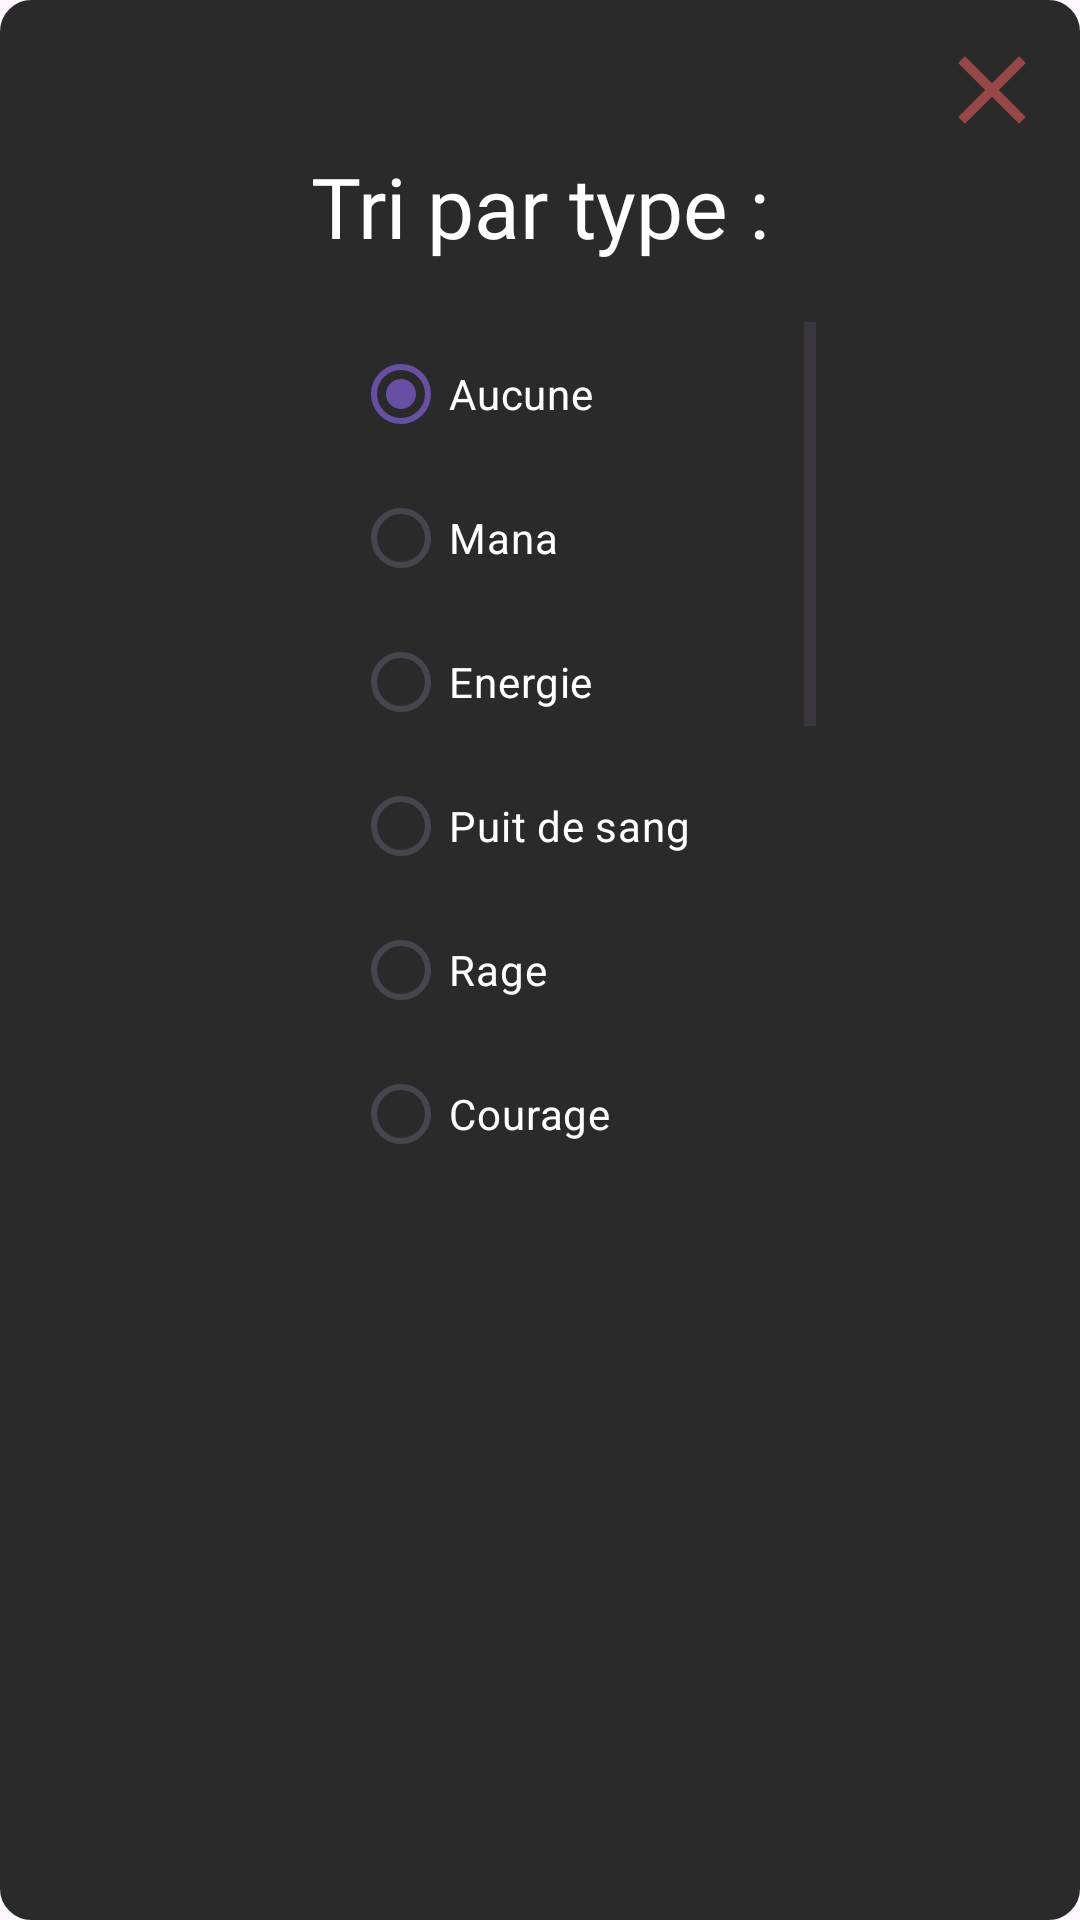

Screen size 1080w x 1920h. Icon name, then its center in pixels as (x=x, y=y):
close: (x=1019, y=62)
